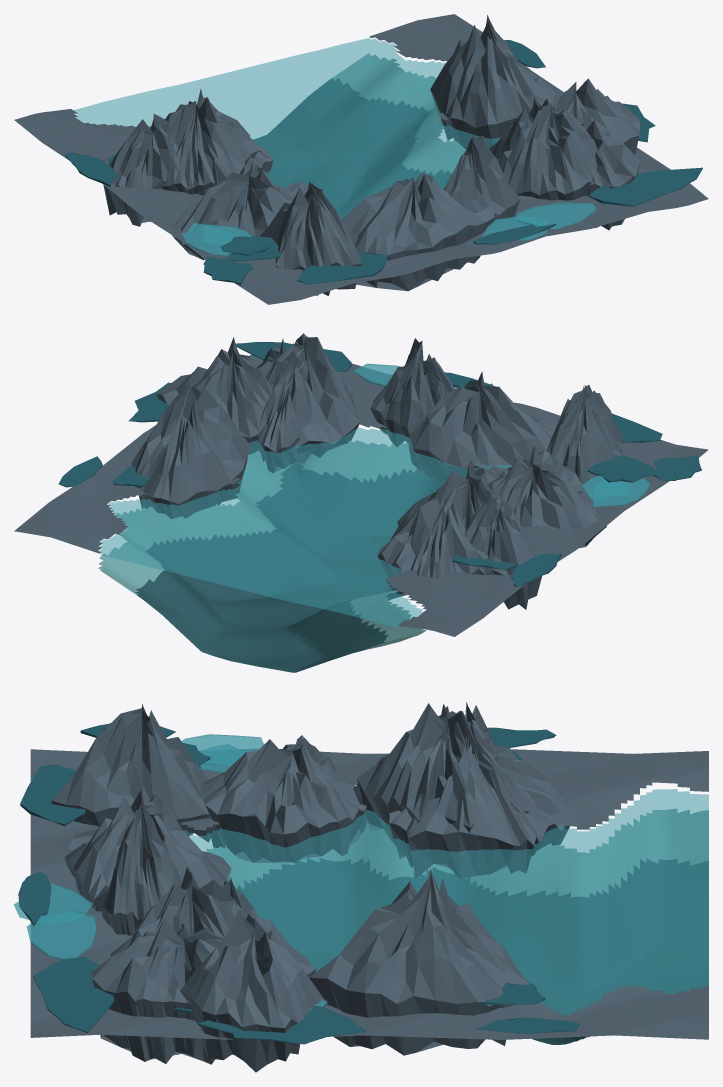
Rendered from water_tile_08.glb.
3 renders of one model, top to bottom at view 1: azimuth 30°, elevation 25°; view 2: azimuth 150°, elevation 25°; view 3: azimuth 270°, elevation 25°, orthographic. The views are drawn at different scales.
Parts seen in each view (by area): view 1: glacial water surface 08, single continuous dark slate shoreline.008, submerged mineral riverbed.008, angular fractured shoreline ledge.085, angular fractured shoreline ledge.080, angular fractured shoreline ledge.083, angular fractured shoreline ledge.088, visible shallow mineral shelves.008, angular fractured shoreline ledge.086, angular fractured shoreline ledge.089, angular fractured shoreline ledge.090, angular fractured shoreline ledge.087 (+16 smaller); view 2: glacial water surface 08, submerged mineral riverbed.008, single continuous dark slate shoreline.008, visible shallow mineral shelves.008, angular fractured shoreline ledge.080, angular fractured shoreline ledge.085, angular fractured shoreline ledge.089, angular fractured shoreline ledge.083, angular fractured shoreline ledge.082, angular fractured shoreline ledge.086, angular fractured shoreline ledge.081, angular fractured shoreline ledge.091 (+14 smaller); view 3: glacial water surface 08, submerged mineral riverbed.008, single continuous dark slate shoreline.008, angular fractured shoreline ledge.080, angular fractured shoreline ledge.089, angular fractured shoreline ledge.091, visible shallow mineral shelves.008, angular fractured shoreline ledge.082, angular fractured shoreline ledge.086, angular fractured shoreline ledge.088, angular fractured shoreline ledge.084, angular fractured shoreline ledge.085 (+14 smaller).
Boxes of the visible parts, x1,y1,x2,y2 form: glacial water surface 08: (73, 38, 500, 219); single continuous dark slate shoreline.008: (14, 14, 708, 304); submerged mineral riverbed.008: (253, 78, 452, 219); angular fractured shoreline ledge.085: (341, 173, 494, 291); angular fractured shoreline ledge.080: (430, 15, 556, 149); angular fractured shoreline ledge.083: (497, 98, 597, 200); angular fractured shoreline ledge.088: (161, 89, 261, 195); visible shallow mineral shelves.008: (332, 53, 465, 175); angular fractured shoreline ledge.086: (260, 180, 361, 295); angular fractured shoreline ledge.089: (172, 161, 308, 260); angular fractured shoreline ledge.090: (103, 114, 178, 226); angular fractured shoreline ledge.087: (443, 135, 520, 223); glacial water surface 08: (100, 427, 512, 627); submerged mineral riverbed.008: (135, 464, 443, 672); single continuous dark slate shoreline.008: (14, 354, 708, 636); visible shallow mineral shelves.008: (98, 440, 426, 650); angular fractured shoreline ledge.080: (132, 380, 250, 518); angular fractured shoreline ledge.085: (407, 371, 555, 483); angular fractured shoreline ledge.089: (466, 446, 606, 548); angular fractured shoreline ledge.083: (264, 333, 360, 457); angular fractured shoreline ledge.082: (157, 337, 271, 454); angular fractured shoreline ledge.086: (546, 385, 623, 486); angular fractured shoreline ledge.081: (257, 351, 333, 473); angular fractured shoreline ledge.091: (377, 480, 516, 579); glacial water surface 08: (183, 789, 708, 1014); submerged mineral riverbed.008: (234, 858, 708, 1044); single continuous dark slate shoreline.008: (30, 749, 708, 1039); angular fractured shoreline ledge.080: (309, 869, 530, 1055); angular fractured shoreline ledge.089: (201, 735, 367, 862); angular fractured shoreline ledge.091: (353, 722, 569, 879); visible shallow mineral shelves.008: (206, 808, 708, 897); angular fractured shoreline ledge.082: (180, 911, 326, 1072); angular fractured shoreline ledge.086: (51, 704, 214, 842); angular fractured shoreline ledge.088: (357, 703, 536, 854); angular fractured shoreline ledge.084: (92, 918, 233, 1064); angular fractured shoreline ledge.085: (64, 790, 231, 911).
Size of the model in its own units: 1.13 by 0.375 by 1.02.
